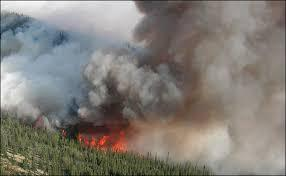fire: (61, 127, 128, 153)
yanwu: (0, 1, 285, 169)
